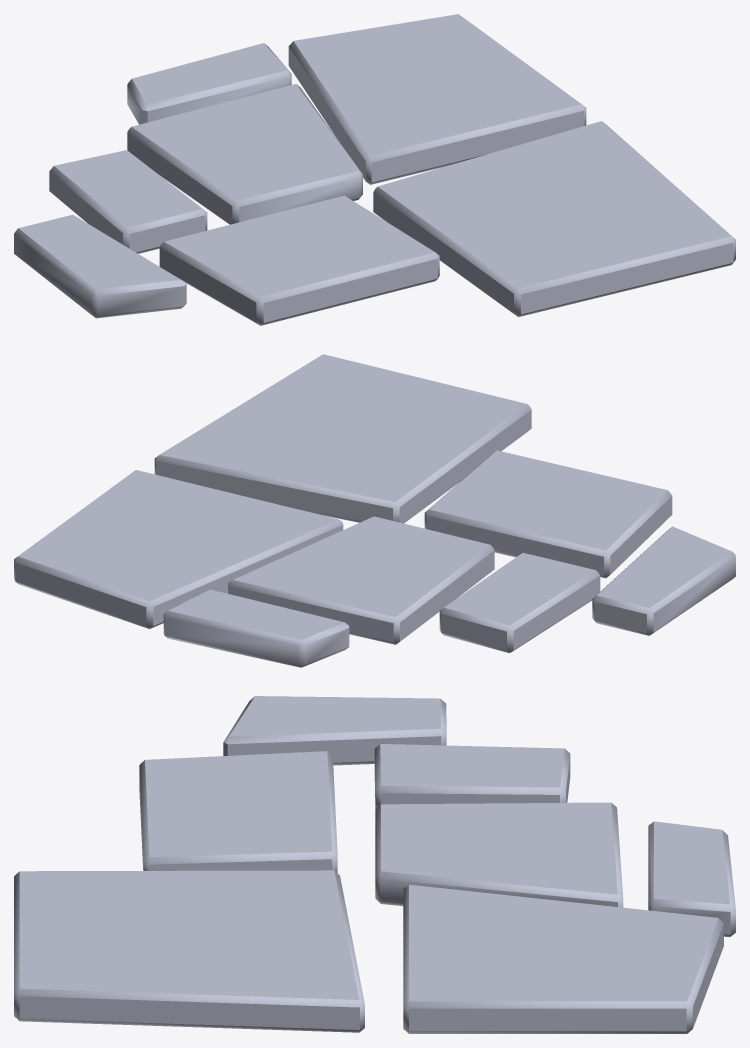
File: Stone_floor01.fbx
3 views of the same model, one above another, from view 1: azimuth 30°, elevation 25°; view 2: azimuth 150°, elevation 25°; view 3: azimuth 270°, elevation 25° (orthographic). The views are drawn at different scales.
Parts seen in each view (by area): view 1: Stones_Floor01; view 2: Stones_Floor01; view 3: Stones_Floor01.
Boxes of the visible parts, x1,y1,x2,y2 form: Stones_Floor01: (14,14,735,325); Stones_Floor01: (14,354,735,667); Stones_Floor01: (14,696,735,1033).
Bounding box in the file's own units: 44.45 × 2.19 × 43.75.
